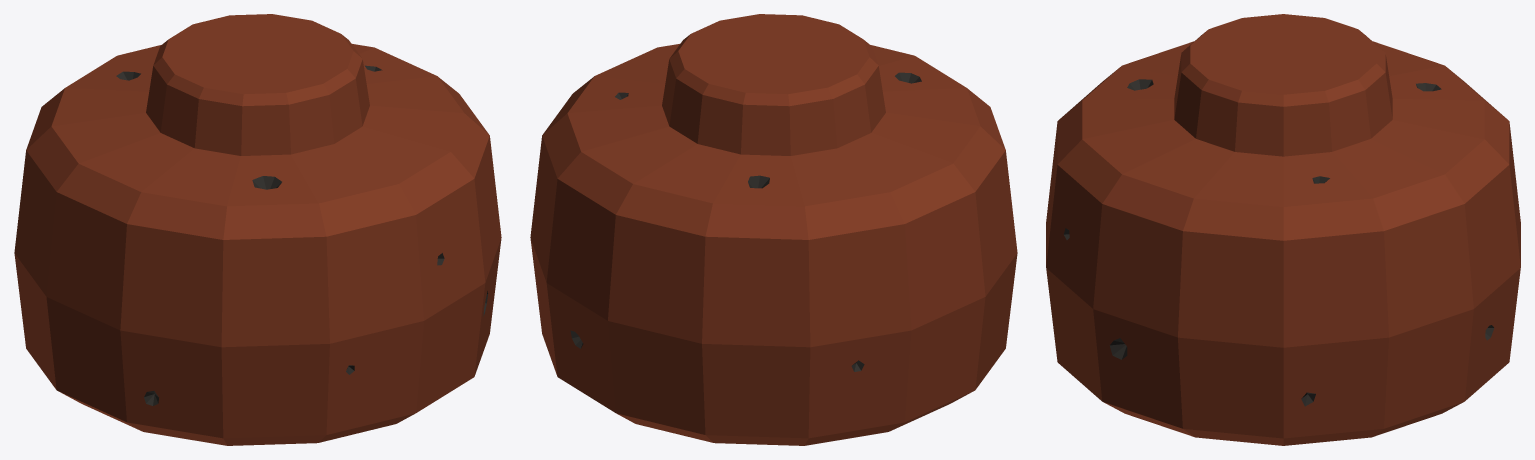
Rendered from pukao-topknot-359e63.glb.
The picture shows the model from 3 angles, left to right: view 1: azimuth 30°, elevation 25°; view 2: azimuth 150°, elevation 25°; view 3: azimuth 270°, elevation 25°; orthographic projection.
Parts seen in each view (by area): view 1: pukao-stone; view 2: pukao-stone; view 3: pukao-stone.
Part boxes in pixels (left/top/right/bottom): pukao-stone: left=14, top=14, right=501, bottom=445; pukao-stone: left=530, top=14, right=1017, bottom=445; pukao-stone: left=1046, top=14, right=1520, bottom=445.
Bounding box in the file's own units: 1.35 × 0.9336 × 1.31.
